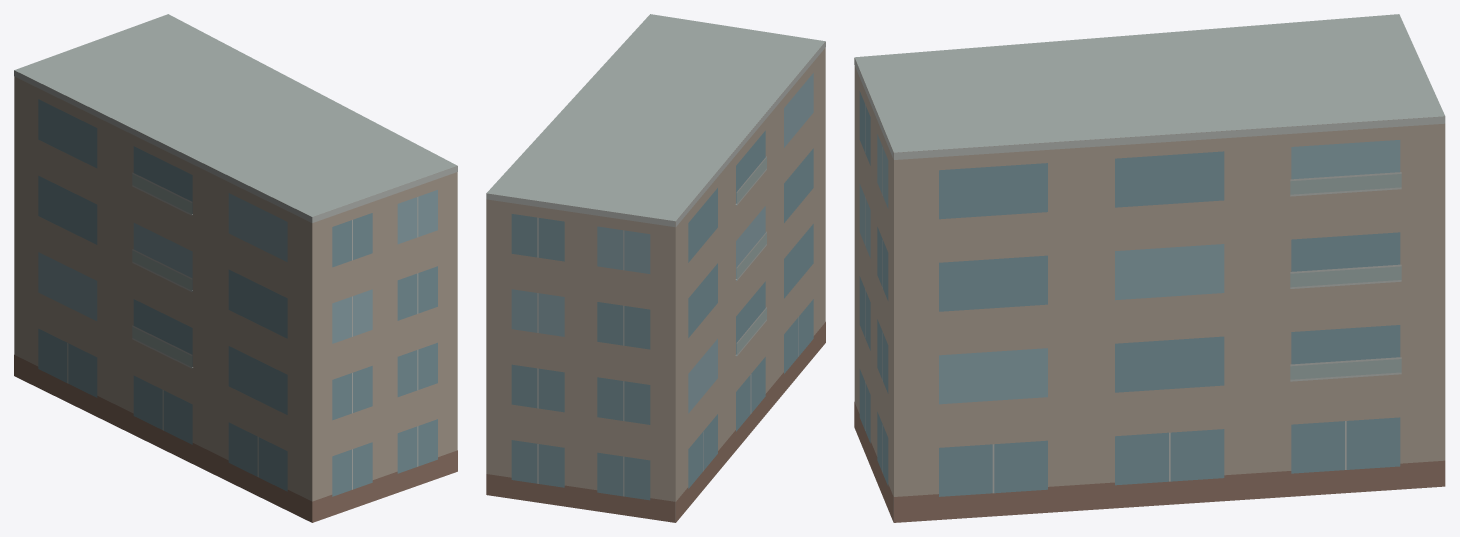
Rendered from survey-upis-32696963.glb.
3 renders of one model, left to right at view 1: azimuth 30°, elevation 25°; view 2: azimuth 150°, elevation 25°; view 3: azimuth 270°, elevation 25°, orthographic. The views are drawn at different scales.
Visible parts, largest first — view 1: survey-upis-32696963.tmp; view 2: survey-upis-32696963.tmp; view 3: survey-upis-32696963.tmp.
Part boxes in pixels (bbox=[...]): survey-upis-32696963.tmp: bbox=[14, 14, 457, 522]; survey-upis-32696963.tmp: bbox=[486, 14, 825, 522]; survey-upis-32696963.tmp: bbox=[854, 14, 1445, 522].
Size of the model in its own units: 9.81 by 12.2 by 17.66.
